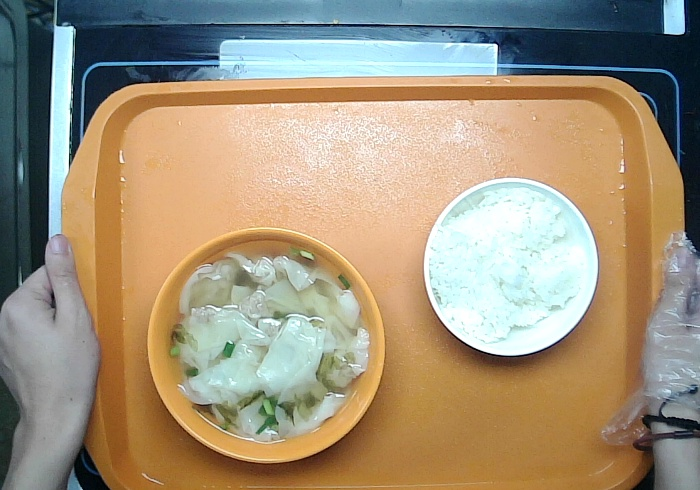NLDX-Fan_Wan: (418, 175, 603, 362)
NLDX-Hun_Tun_Wan: (141, 221, 391, 469)
